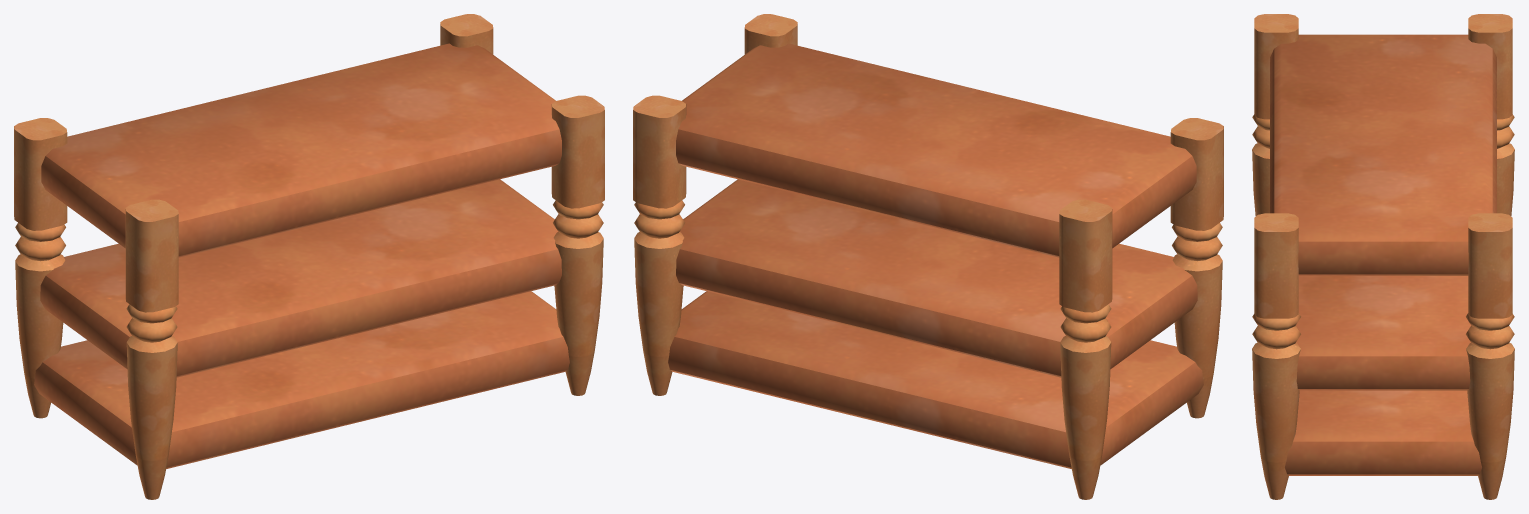
Rendered from SM_Furniture_Medium.fbx.
The picture shows the model from 3 angles, left to right: view 1: azimuth 30°, elevation 25°; view 2: azimuth 150°, elevation 25°; view 3: azimuth 270°, elevation 25°; orthographic projection. The views are drawn at different scales.
Parts seen in each view (by area): view 1: SM_Furniture_medium_pt2, SM_Furniture_Medium_pt1; view 2: SM_Furniture_medium_pt2, SM_Furniture_Medium_pt1; view 3: SM_Furniture_Medium_pt1, SM_Furniture_medium_pt2.
Boxes of the visible parts, <box> form: SM_Furniture_medium_pt2: <box>14,90,368,499</box>; SM_Furniture_Medium_pt1: <box>256,14,604,420</box>; SM_Furniture_medium_pt2: <box>869,90,1223,499</box>; SM_Furniture_Medium_pt1: <box>633,14,981,420</box>; SM_Furniture_Medium_pt1: <box>1252,134,1514,499</box>; SM_Furniture_medium_pt2: <box>1252,14,1514,216</box>.
Size of the model in its own units: 198 by 115 by 100.
